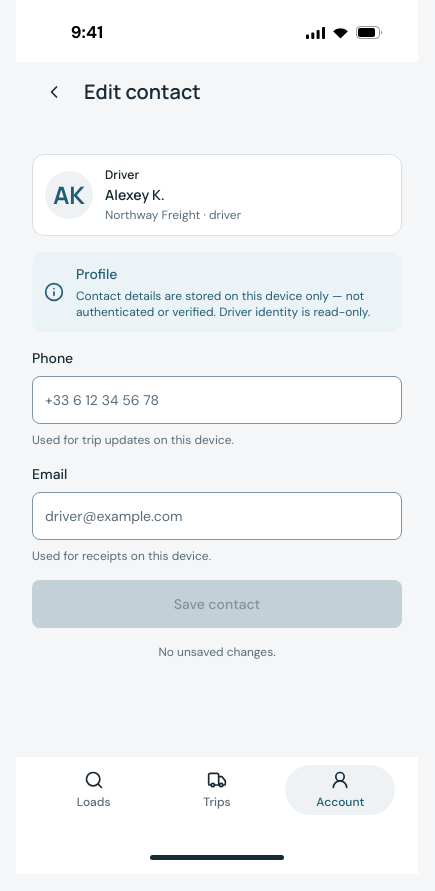
Test case: disables unchanged and invalid values, saves once and clears dirty state
Expected: the button "Save contact" is disabled, [32,580,402,628]
Type "abc" into the field labelled "Phone" at (217, 400), box [45,377,389,423]
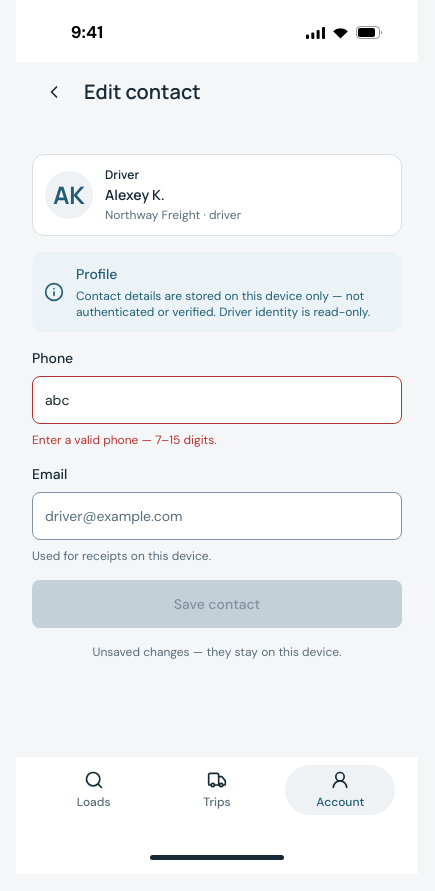
Expected: the button "Save contact" is disabled, [32,580,402,628]
Now the text "Enter a valid phone — 7–15 digits." is shown, box [32,432,217,448]
Replace the text in the field labelled "Phone Enter a valid phone — 7–15 digits." with "+123456789" at (217, 400), box [45,377,389,423]
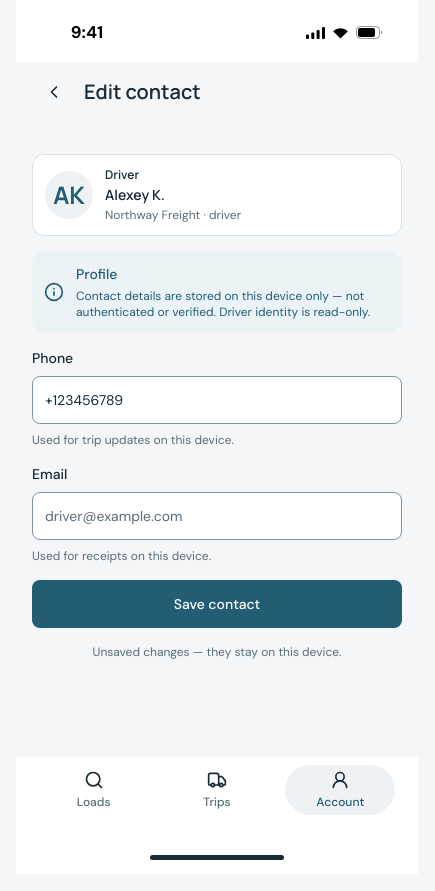
Type "bad" into the field labelled "Email" at (217, 516), box [45,493,389,539]
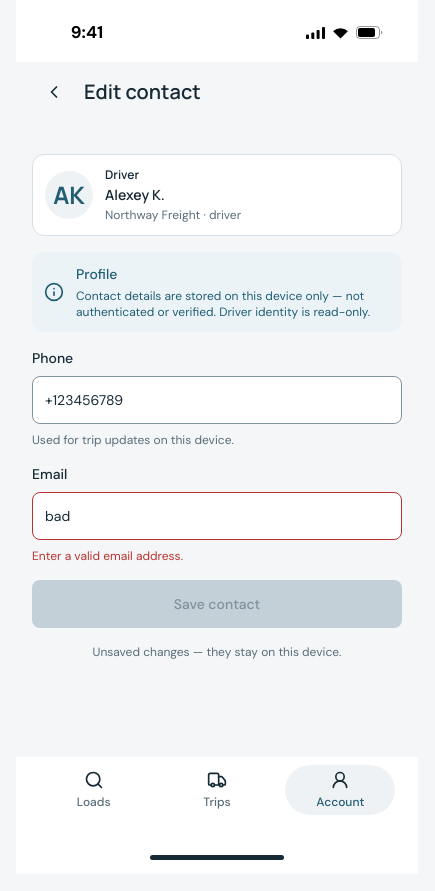
Now the text "Enter a valid email address." is shown, box [32,548,183,564]
Replace the text in the field labelled "Email" with "driver@example.com" at (217, 516), box [45,493,389,539]
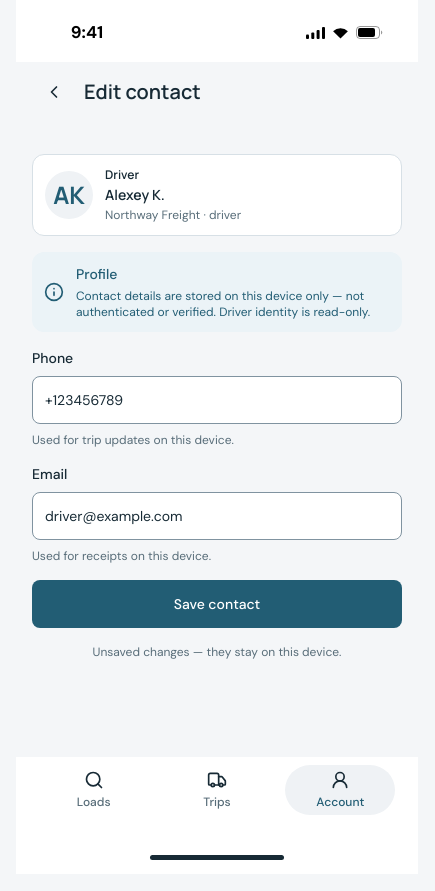
Click the button "Save contact" at (217, 604), box [32,580,402,628]
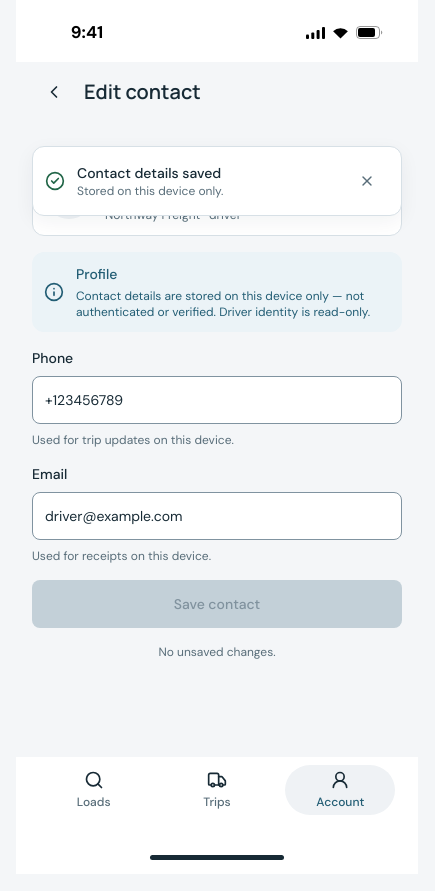
Now the message "Contact details saved Stored on this device only." is shown, box [32,146,402,216]
